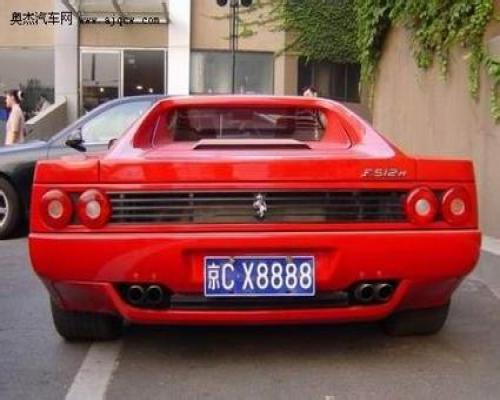Carplate: (198, 249, 321, 303)
